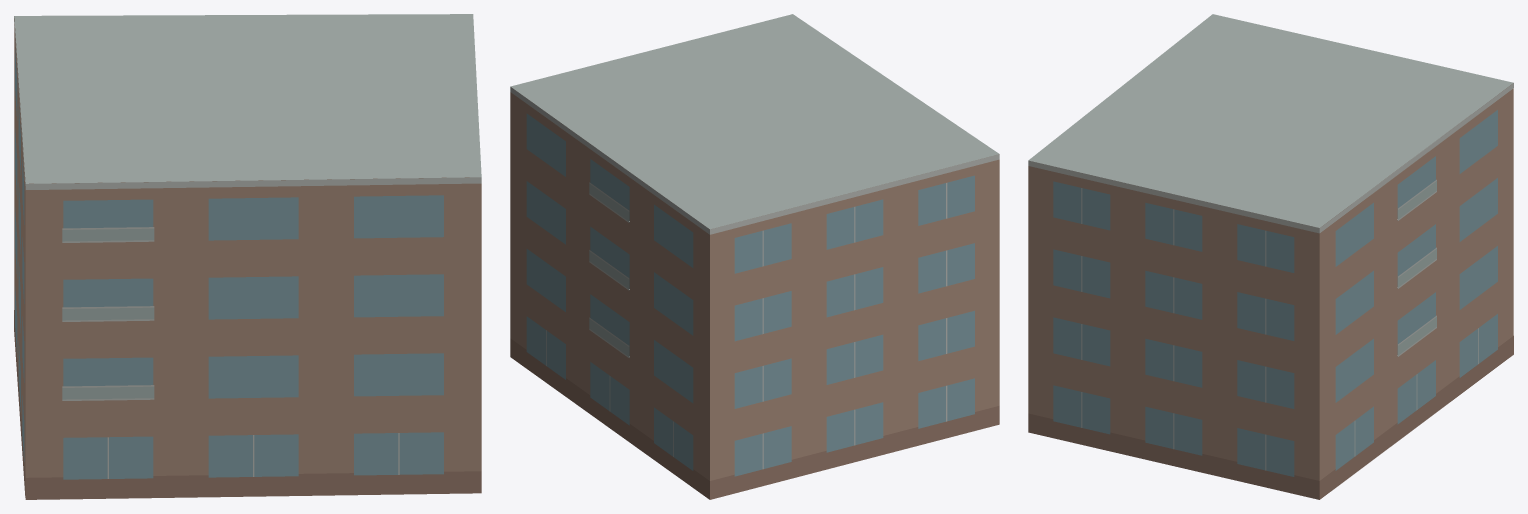
File: survey-upis-32883264.glb
3 renders of one model, left to right at view 1: azimuth 30°, elevation 25°; view 2: azimuth 150°, elevation 25°; view 3: azimuth 270°, elevation 25°, orthographic. The views are drawn at different scales.
Visible parts, largest first — view 1: survey-upis-32883264.tmp; view 2: survey-upis-32883264.tmp; view 3: survey-upis-32883264.tmp.
Part boxes in pixels (left/top/right/bottom): survey-upis-32883264.tmp: left=14, top=14, right=481, bottom=499; survey-upis-32883264.tmp: left=510, top=14, right=999, bottom=499; survey-upis-32883264.tmp: left=1028, top=14, right=1513, bottom=499.
Bounding box in the file's own units: 20.6 × 12.2 × 19.75.
